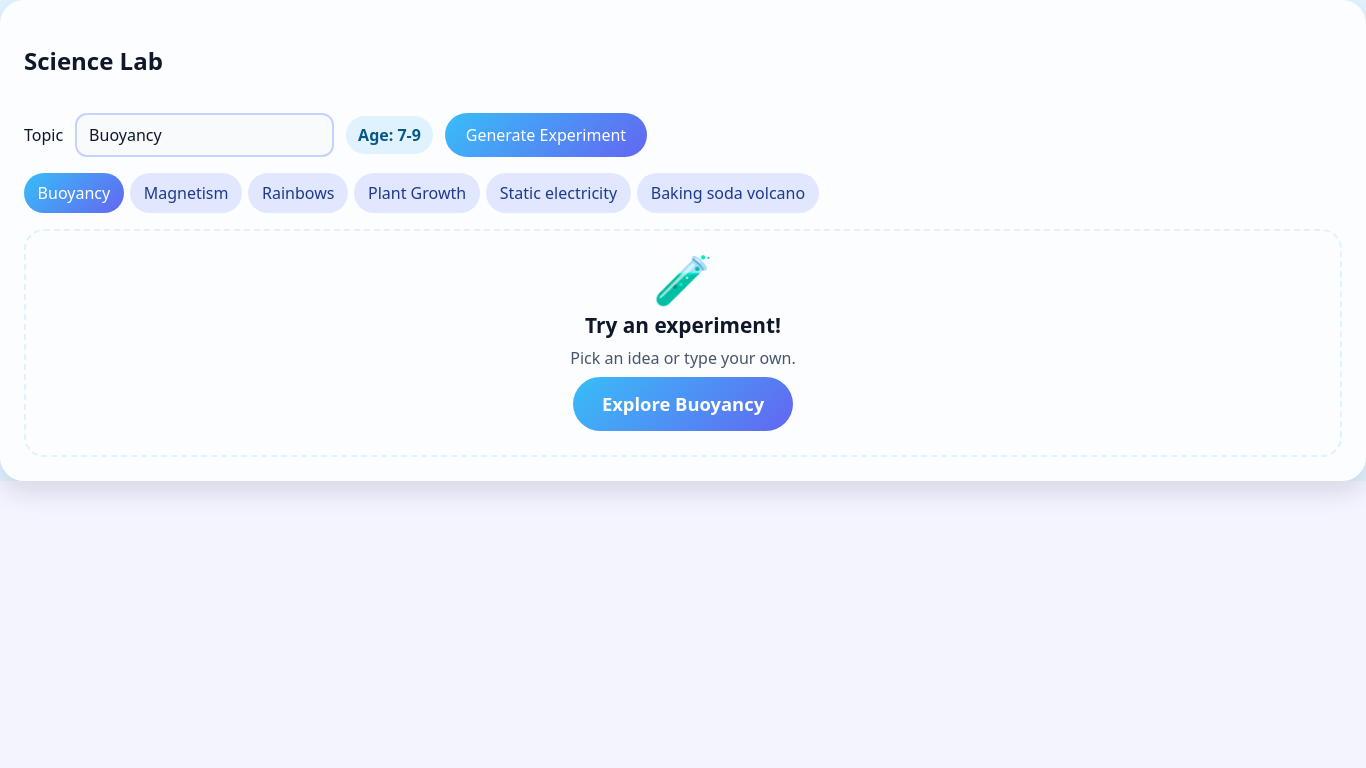
Test: ChatGPT tool-result envelopes › ScienceLab renders successful structured content
Step 1. Click the button "Generate Experiment" → (546,135), box [445,113,647,157]
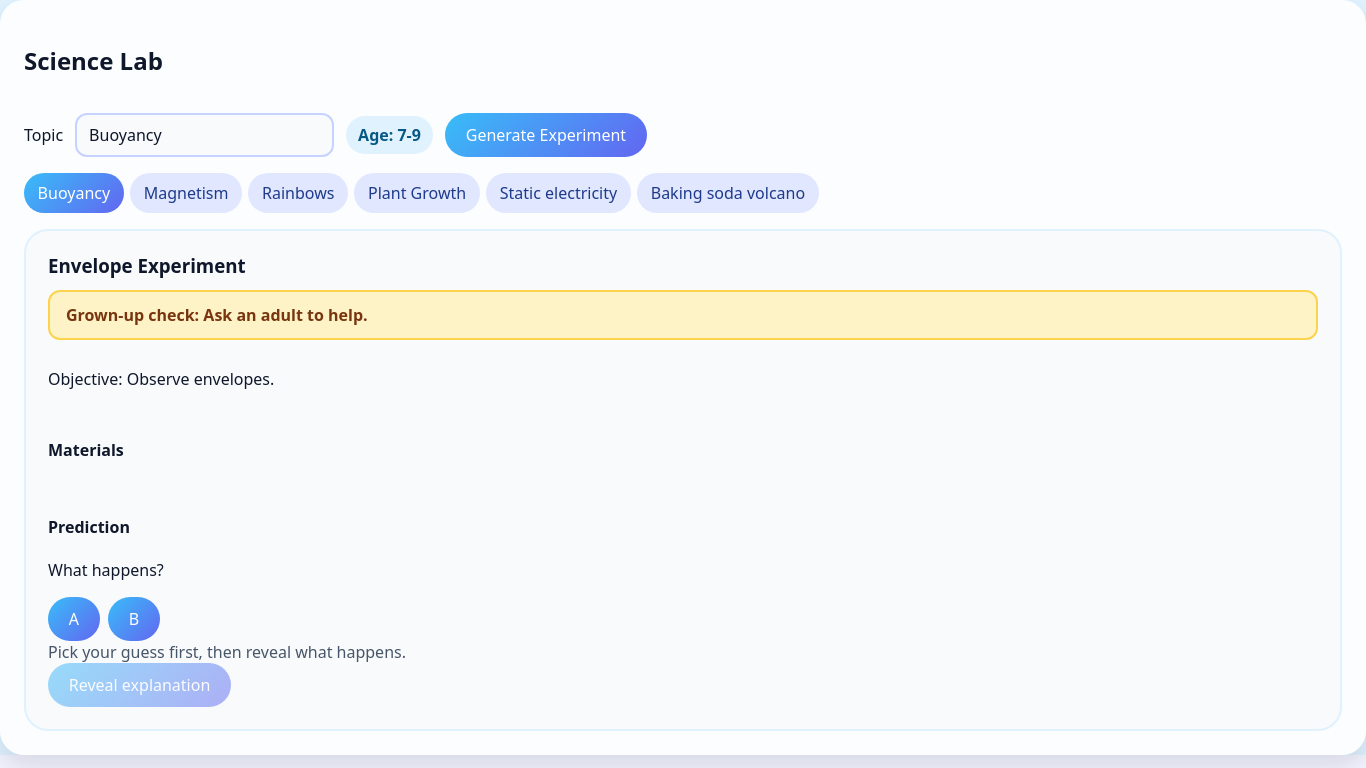
Expected: the heading "Envelope Experiment" is shown, [48,253,246,278]
